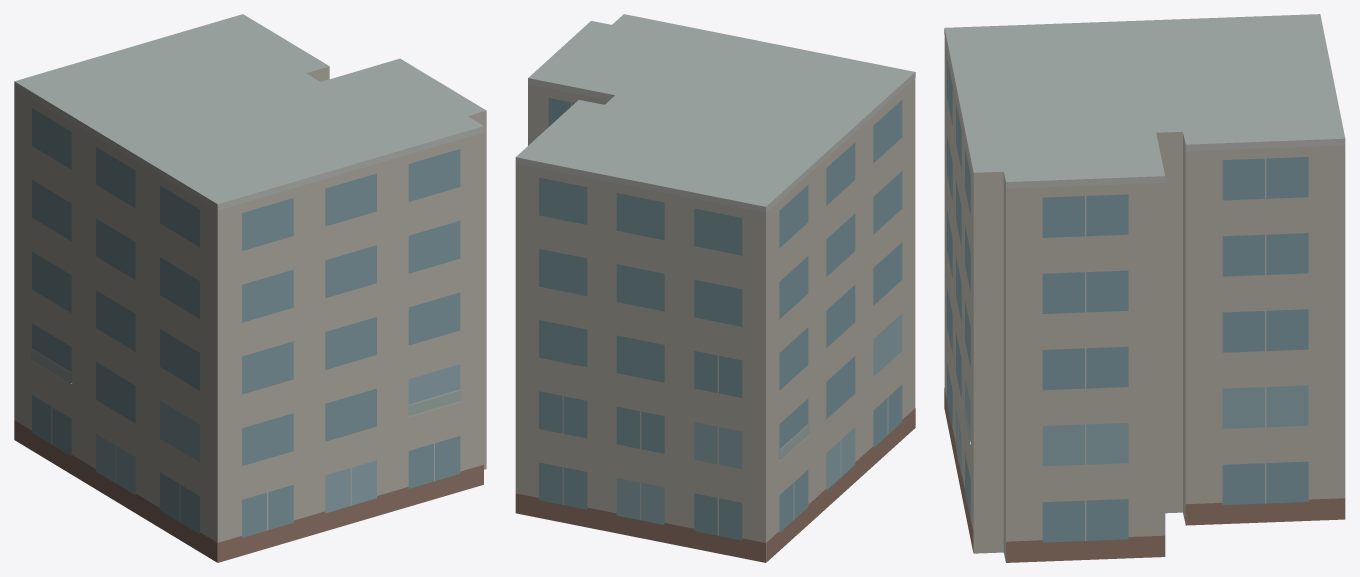
The model's file is survey-upis-32621040.glb.
The picture shows the model from 3 angles, left to right: view 1: azimuth 30°, elevation 25°; view 2: azimuth 150°, elevation 25°; view 3: azimuth 270°, elevation 25°; orthographic projection. The views are drawn at different scales.
Visible parts, largest first — view 1: survey-upis-32621040.tmp; view 2: survey-upis-32621040.tmp; view 3: survey-upis-32621040.tmp.
Part boxes in pixels (box(x1,y1,x2,y2)): survey-upis-32621040.tmp: box(14, 14, 486, 562); survey-upis-32621040.tmp: box(515, 14, 915, 562); survey-upis-32621040.tmp: box(944, 14, 1345, 562).
Bounding box in the file's own units: 13.36 × 14.1 × 13.46.
